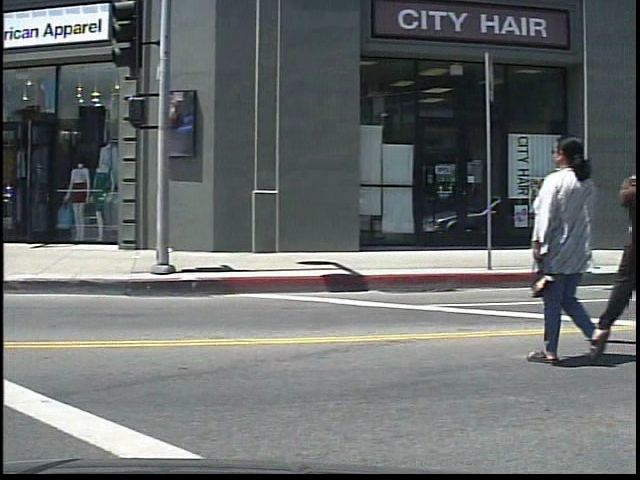person: (531, 119, 623, 369)
